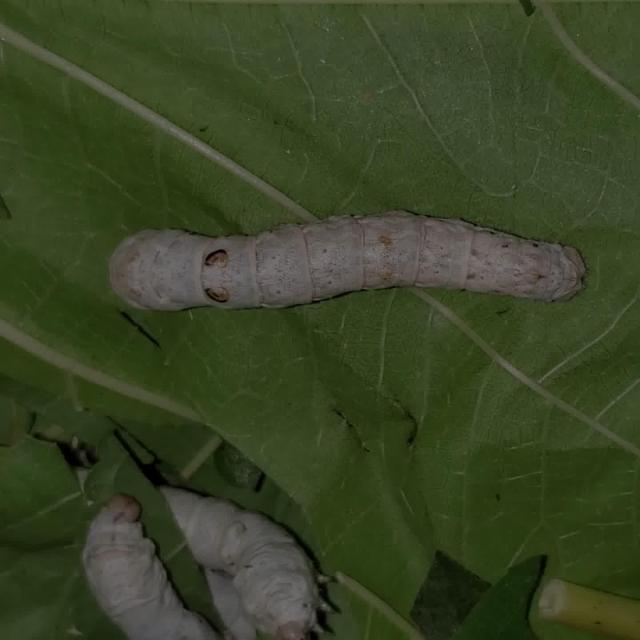Healthy: (102, 192, 597, 328)
